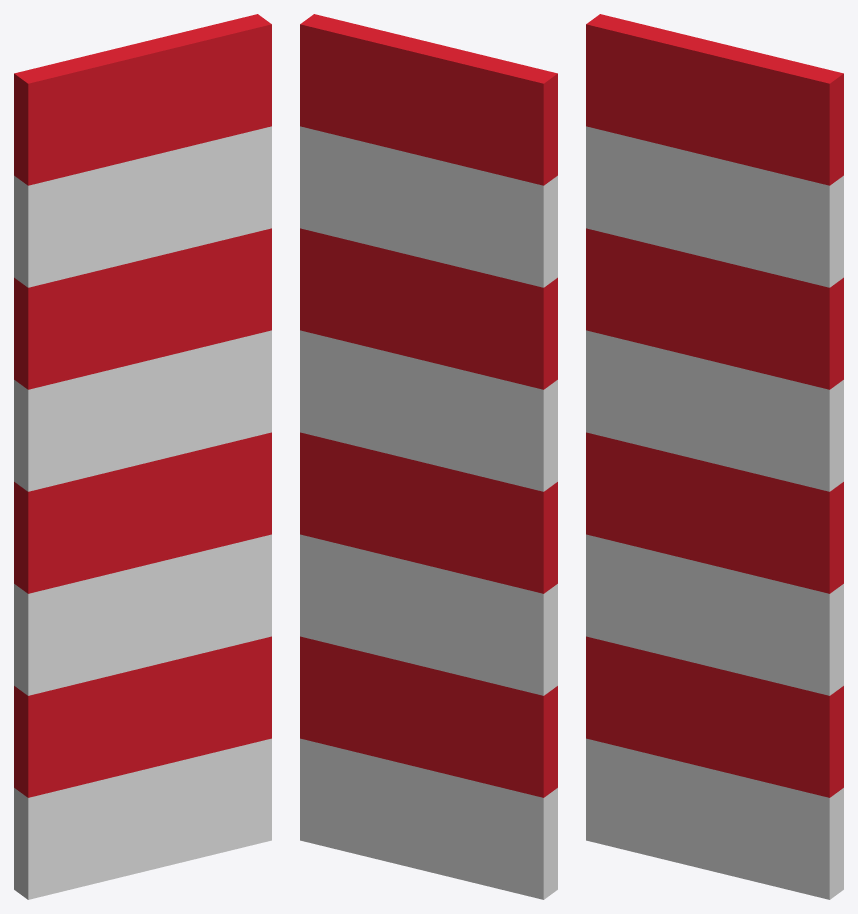
File: tinker.obj
3 views of the same model, side by side, from view 1: azimuth 30°, elevation 25°; view 2: azimuth 150°, elevation 25°; view 3: azimuth 330°, elevation 25° (orthographic).
Visible parts, largest first — view 1: group_0_15277357, group_0_16448250; view 2: group_0_15277357, group_0_16448250; view 3: group_0_15277357, group_0_16448250.
Part boxes in pixels (x1=…): group_0_15277357: x1=14, y1=14, x2=271, y2=797; group_0_16448250: x1=14, y1=126, x2=271, y2=899; group_0_15277357: x1=300, y1=14, x2=557, y2=797; group_0_16448250: x1=300, y1=126, x2=557, y2=899; group_0_15277357: x1=586, y1=14, x2=843, y2=797; group_0_16448250: x1=586, y1=126, x2=843, y2=899.
Size of the model in its own units: 10 by 32 by 1.
